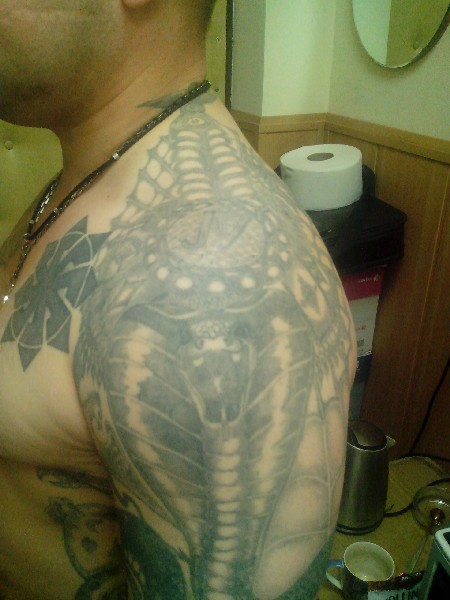tatu4_zvezda: (10, 232, 112, 353)
tatu7_zmeya: (99, 292, 337, 573)
